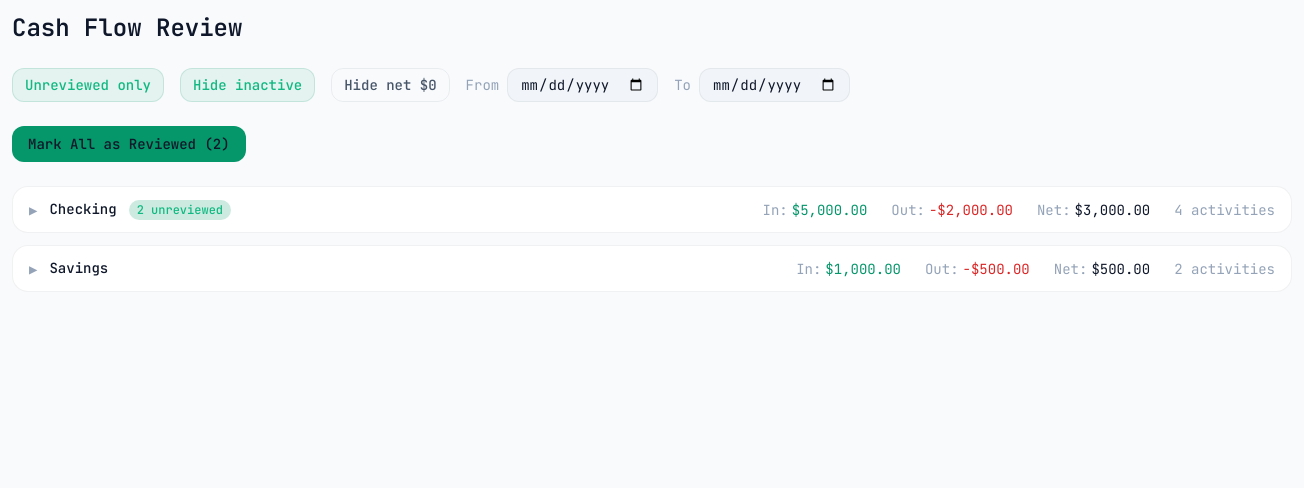
Test case: CashFlowReviewPage › clicking a notes cell opens an input for that cell only
Click the button with test id "account-row-acc-1".
click(83, 209)  # box x1=13 y1=187 x2=1291 y2=232
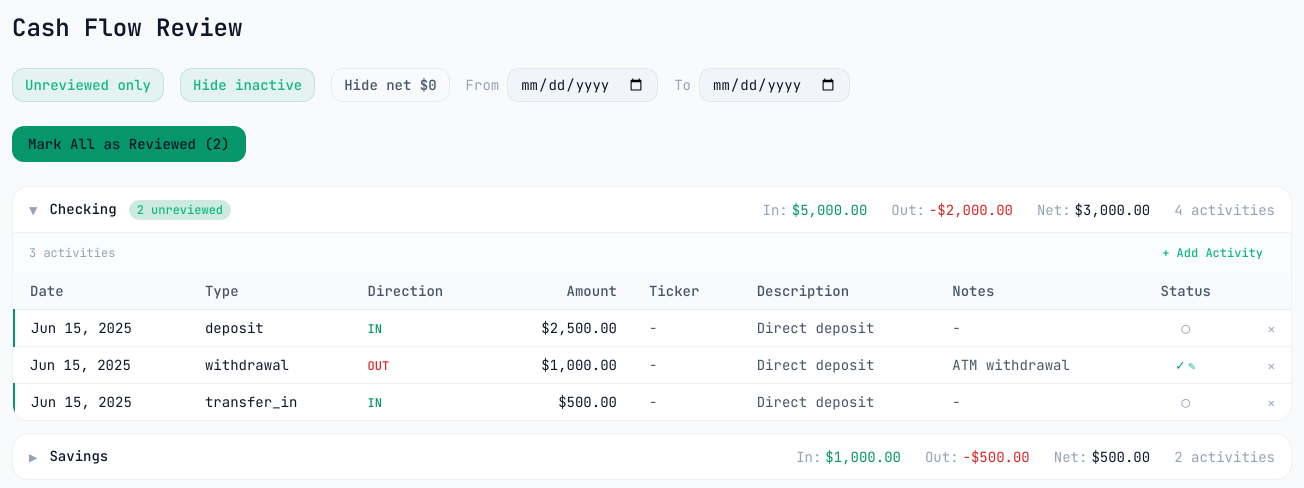
expect the row with test id "activity-row-act-1" is shown: met, box x1=14 y1=310 x2=1291 y2=346
Click the text with test id "notes-cell-act-1".
click(956, 328)  # box x1=952 y1=319 x2=961 y2=337
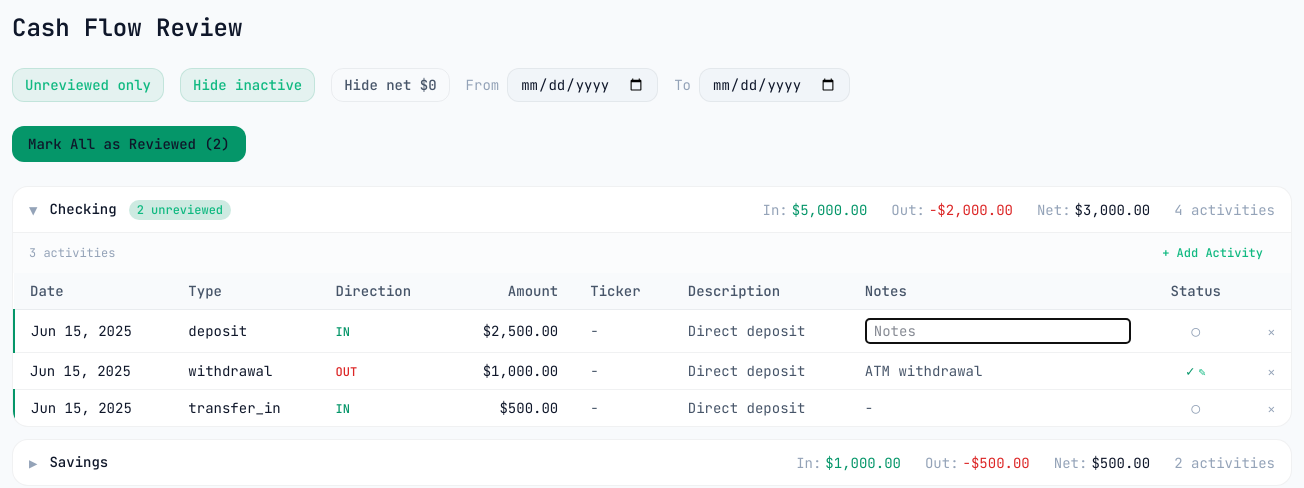
expect the field with test id "edit-notes" is shown: met, box x1=865 y1=318 x2=1131 y2=344
